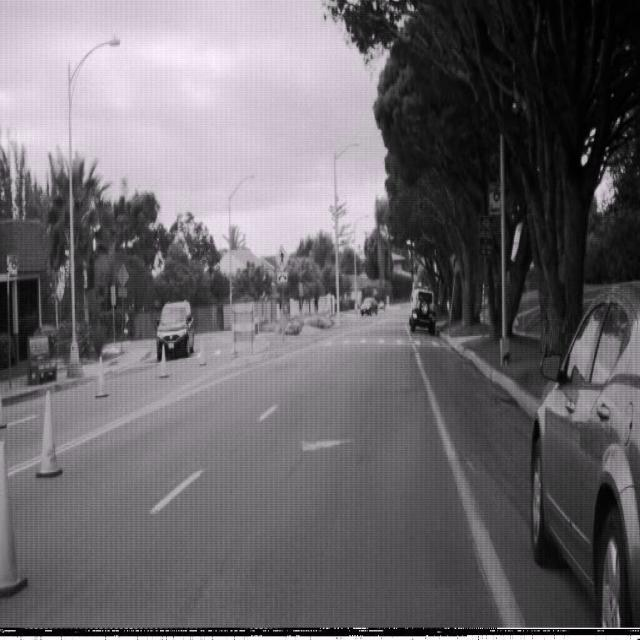pedestrianCrossing: (274, 243, 288, 272)
